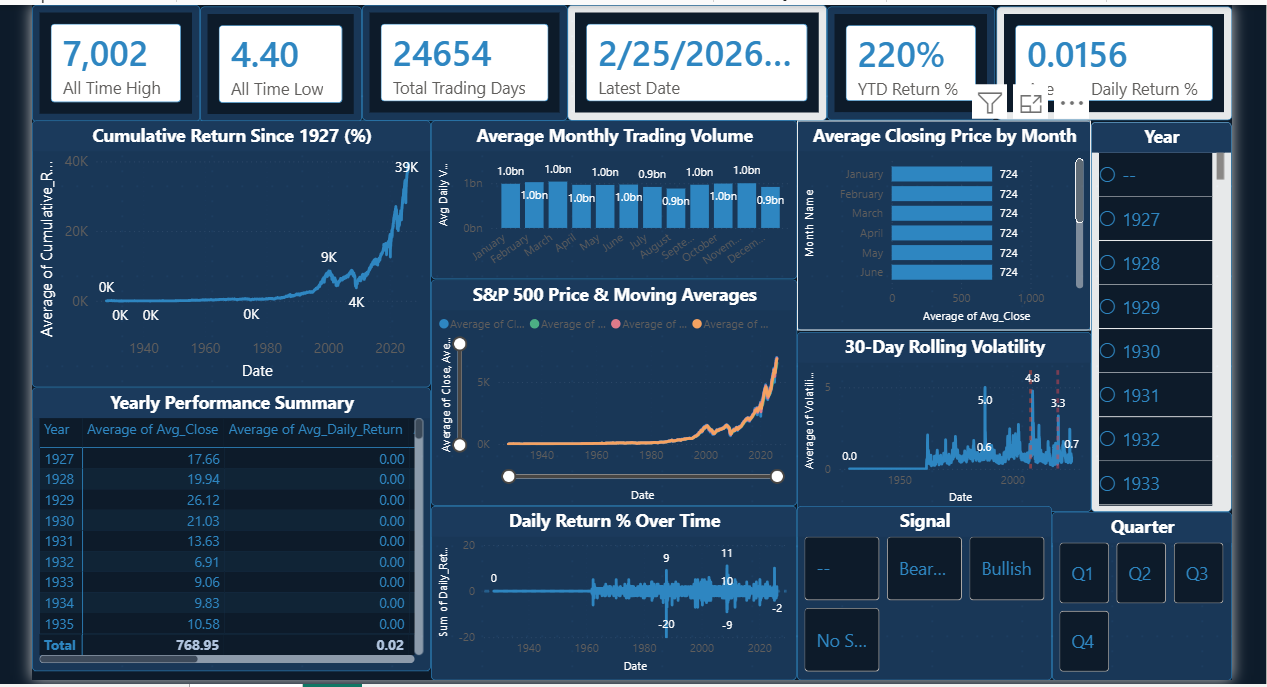

This screenshot's page, from the dashboard's own definition file:
{"tool":"powerbi","page":{"name":"Page 1","canvas":[1280,720],"ordinal":0},"visuals":[{"type":"cardVisual","fields":{"Data":["Calendar.All Time High"]},"box":[0,0,179.2,124.8],"z":0},{"type":"cardVisual","fields":{"Data":["Calendar.All Time Low"]},"box":[179.2,1.6,172.8,123.2],"z":1000},{"type":"cardVisual","fields":{"Data":["Calendar.Latest Date"]},"box":[571.2,0,276.8,123.2],"z":2000},{"type":"cardVisual","fields":{"Data":["Calendar.Average Daily Return %"]},"box":[1028.8,1.6,251.2,121.6],"z":3000},{"type":"cardVisual","fields":{"Data":["Calendar.Total Trading Days"]},"box":[352,0,219.2,123.2],"z":4000},{"type":"cardVisual","fields":{"Data":["Calendar.YTD Return %"]},"box":[848,1.6,179.2,121.6],"z":5000},{"type":"lineChart","title":"S&P 500 Price & Moving Averages","fields":{"Y":["Avg(StockData.Close)","Avg(StockData.MA_200)","Avg(StockData.MA_30)","Avg(StockData.MA_90)"],"Category":["StockData.Date"]},"box":[425.6,292.8,390.4,241.6],"z":6000},{"type":"clusteredColumnChart","title":"Average Monthly Trading Volume","fields":{"Category":["Calendar.Month Name"],"Y":["Calendar.Avg Daily Volume"]},"box":[425.6,123.2,390.4,169.6],"z":7000},{"type":"areaChart","title":"Daily Return % Over Time","fields":{"Category":["StockData.Date"],"Y":["Sum(StockData.Daily_Return_Pct)"]},"box":[426,534,390,186],"z":8000},{"type":"clusteredBarChart","title":"Average Closing Price by Month","fields":{"Category":["Calendar.Month Name"],"Y":["Avg(MonthlySummary.Avg_Close)"]},"box":[816,123.2,313.6,224],"z":9000},{"type":"lineChart","title":"30-Day Rolling Volatility","fields":{"Category":["StockData.Date"],"Y":["Avg(StockData.Volatility_30)"]},"box":[816,348,314,192],"z":10000},{"type":"lineChart","title":"Cumulative Return Since 1927 (%)","fields":{"Category":["StockData.Date"],"Y":["Avg(StockData.Cumulative_Return_Pct)"]},"box":[0,123.2,425.6,284.8],"z":11000},{"type":"pivotTable","title":"Yearly Performance Summary","fields":{"Rows":["YearlySummary.Year"],"Values":["Avg(YearlySummary.Avg_Close)","Avg(YearlySummary.Avg_Daily_Return)","Avg(YearlySummary.YTD_Return_Pct)","Avg(YearlySummary.Min_Close)","Avg(YearlySummary.Max_Close)"]},"box":[0,408,425.6,302.4],"z":12000},{"type":"advancedSlicerVisual","fields":{"Values":["Calendar.Quarter"]},"box":[1088,540,192,180],"z":13000},{"type":"advancedSlicerVisual","fields":{"Values":["StockData.Signal"]},"box":[816,534,272,186],"z":14000},{"type":"listSlicer","fields":{"Values":["YearLookup.Year"]},"box":[1130,124,150,416],"z":15000}]}

Visuals, with their boxes in screenshot pixels (x1, y1, x2, y2):
cardVisual - Calendar.All Time High: l=26, t=0, r=195, b=117
cardVisual - Calendar.All Time Low: l=195, t=2, r=357, b=117
cardVisual - Calendar.Latest Date: l=563, t=0, r=824, b=116
cardVisual - Calendar.Average Daily Return %: l=993, t=2, r=1230, b=116
cardVisual - Calendar.Total Trading Days: l=357, t=0, r=563, b=116
cardVisual - Calendar.YTD Return %: l=824, t=2, r=992, b=116
"S&P 500 Price & Moving Averages" lineChart: l=426, t=275, r=793, b=502
"Average Monthly Trading Volume" clusteredColumnChart: l=426, t=116, r=793, b=275
"Daily Return % Over Time" areaChart: l=427, t=502, r=793, b=677
"Average Closing Price by Month" clusteredBarChart: l=793, t=116, r=1088, b=326
"30-Day Rolling Volatility" lineChart: l=793, t=327, r=1089, b=508
"Cumulative Return Since 1927 (%)" lineChart: l=26, t=116, r=426, b=384
"Yearly Performance Summary" pivotTable: l=26, t=384, r=426, b=668
advancedSlicerVisual - Calendar.Quarter: l=1049, t=508, r=1230, b=677
advancedSlicerVisual - StockData.Signal: l=793, t=502, r=1049, b=677
listSlicer - YearLookup.Year: l=1089, t=117, r=1230, b=508
